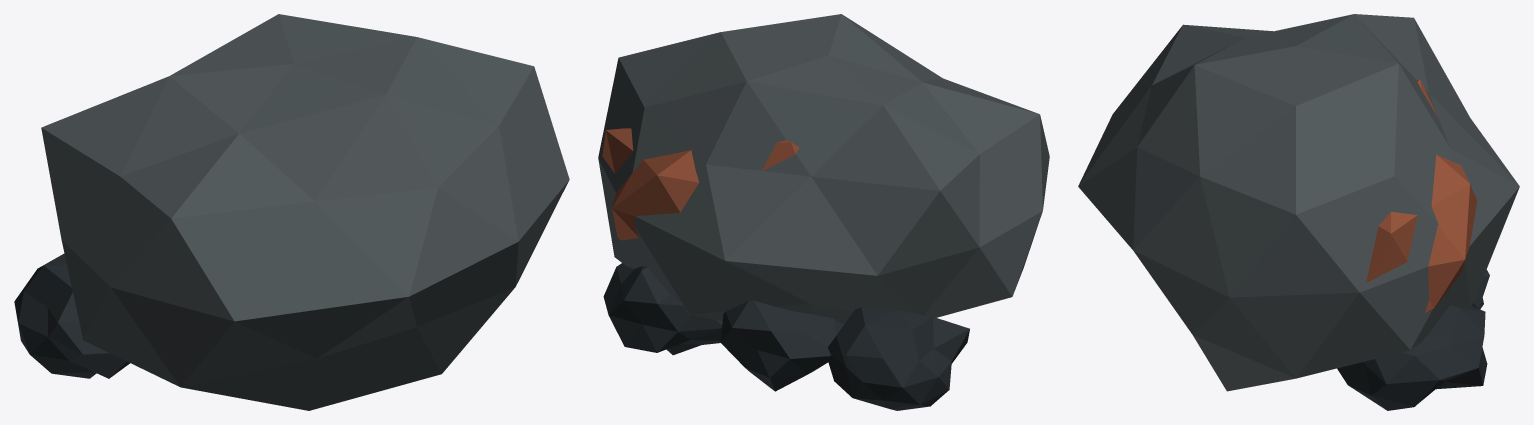
The model's file is rock_a.fbx.
3 renders of one model, left to right at view 1: azimuth 30°, elevation 25°; view 2: azimuth 150°, elevation 25°; view 3: azimuth 270°, elevation 25°, orthographic. The views are drawn at different scales.
Visible parts, largest first — view 1: rock_a; view 2: rock_a; view 3: rock_a.
Part boxes in pixels (x1,y1,x2,y2): rock_a: (14, 14, 569, 410); rock_a: (598, 14, 1049, 410); rock_a: (1078, 14, 1519, 410).
Size of the model in its own units: 2.09 by 1.44 by 1.86.
